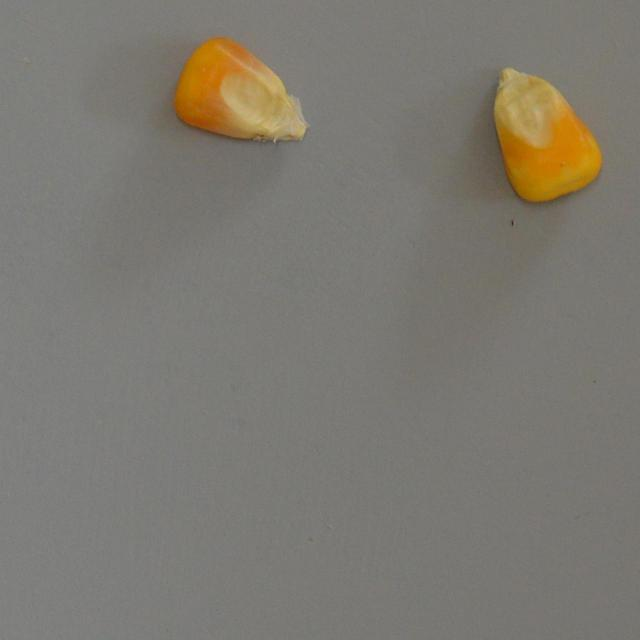entero: (171, 30, 313, 148), (486, 62, 603, 204)
